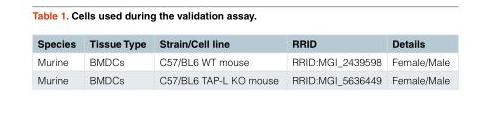table: (36, 37, 449, 85)
table column: (152, 37, 284, 85), (284, 37, 386, 85), (81, 37, 152, 85), (386, 37, 449, 85), (36, 37, 81, 85)
table column header: (36, 37, 449, 52)
table row: (36, 52, 449, 70), (36, 37, 449, 52), (36, 70, 449, 85)
